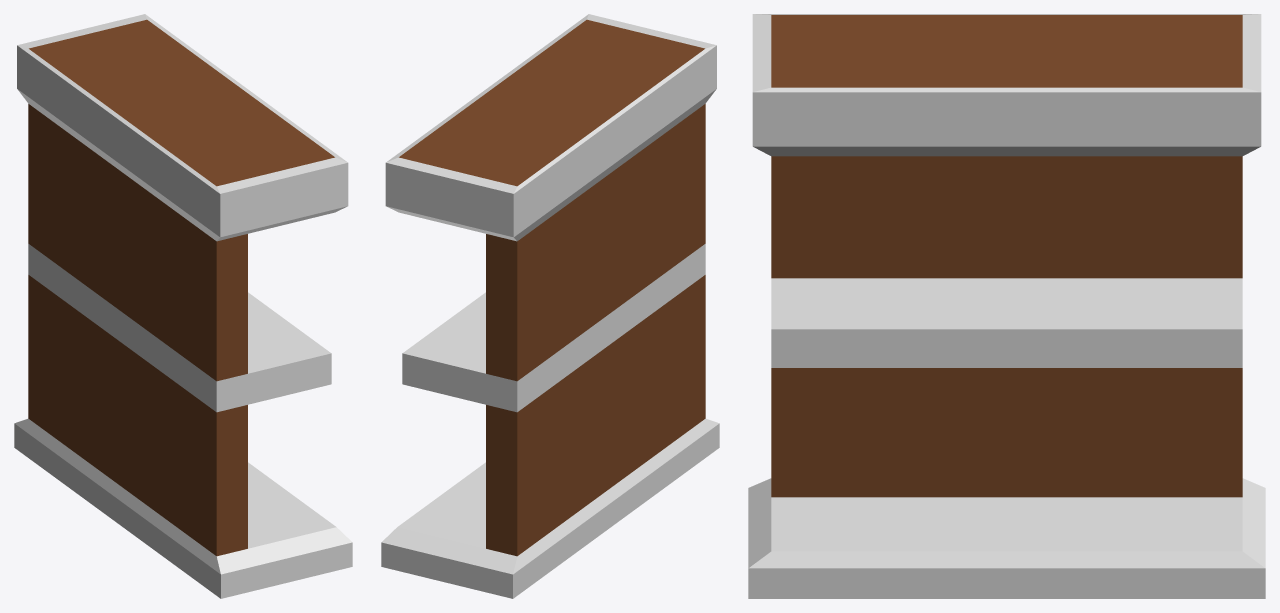
Rendered from FactoryWardrobe.fbx.
3 renders of one model, left to right at view 1: azimuth 30°, elevation 25°; view 2: azimuth 150°, elevation 25°; view 3: azimuth 270°, elevation 25°, orthographic. The views are drawn at different scales.
Parts seen in each view (by area): view 1: Cube; view 2: Cube; view 3: Cube.
Boxes of the visible parts, x1,y1,x2,y2 form: Cube: [14, 14, 352, 598]; Cube: [381, 14, 719, 598]; Cube: [748, 14, 1265, 598].
Bounding box in the file's own units: 219 × 644 × 596.
